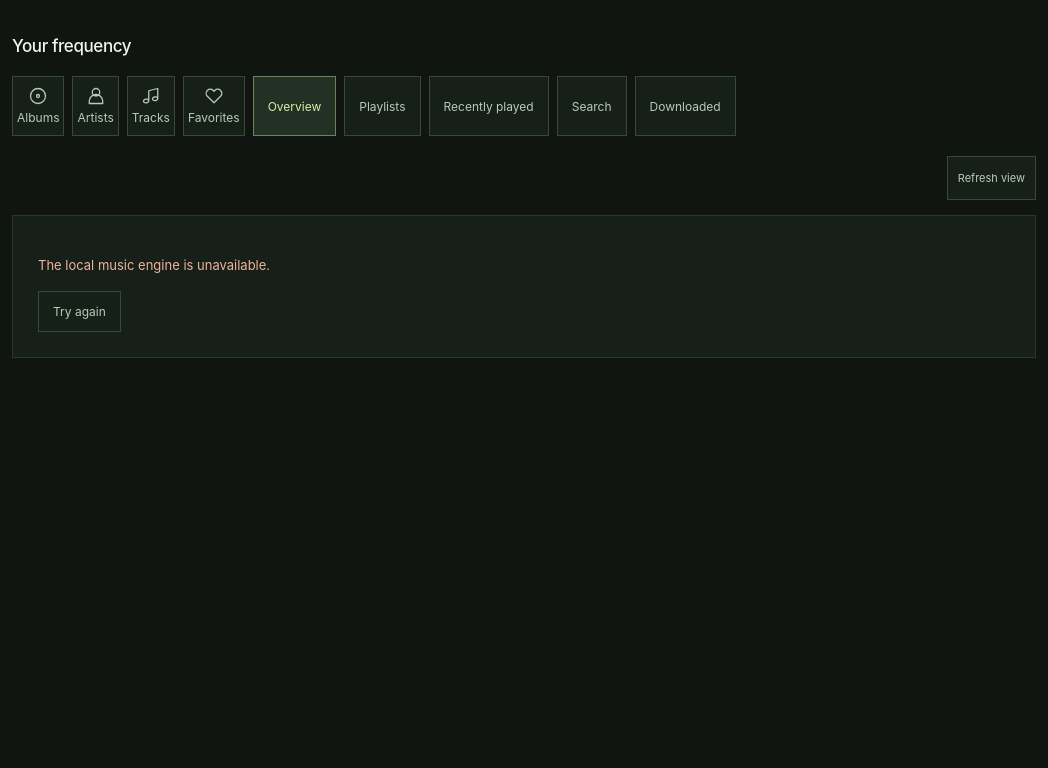
Scenario: shows safe errors and supports retry
This screenshot has width=1048, height=768.
expect the message shows "unavailable": met, box [38,257,270,273]
Click the button "Try again".
click(79, 312)  # box [38,291,121,332]
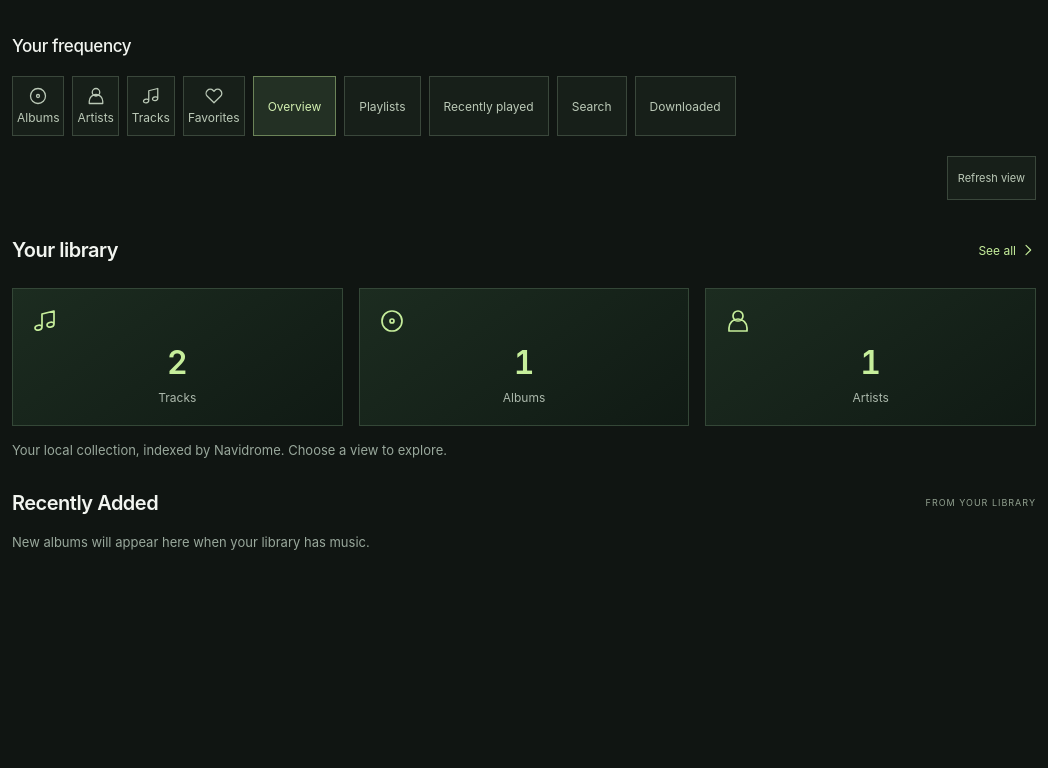
expect the text "2" is shown: met, box [167,343,188,382]
